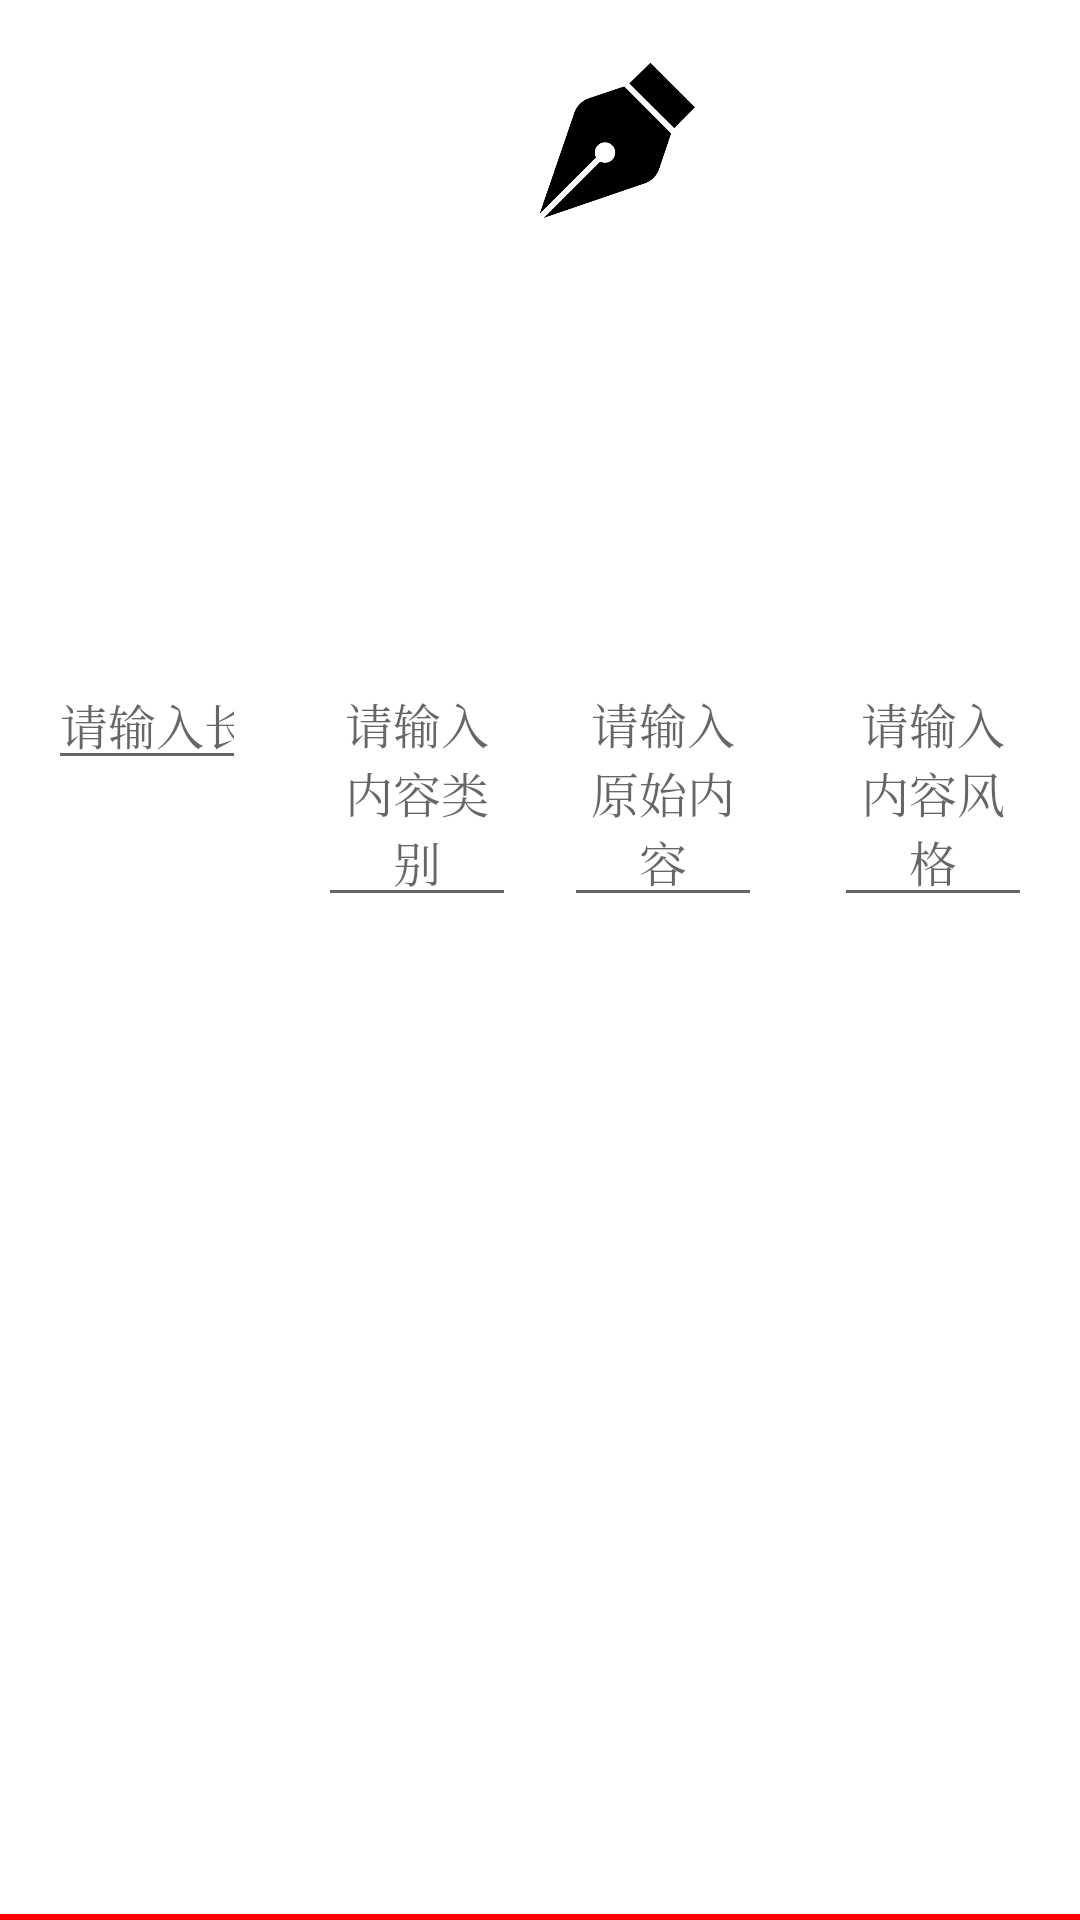

Named icons in this screenshot (1080×1920) and their bounding boxes, (x1, y1, x2, y2):
pen nib: (540, 63, 695, 218)
